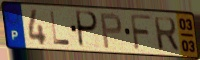4: (27, 8, 49, 47)
F: (129, 13, 153, 52)
L: (49, 10, 72, 47)
P: (75, 9, 100, 49), (99, 12, 124, 50)
R: (152, 16, 181, 53)
